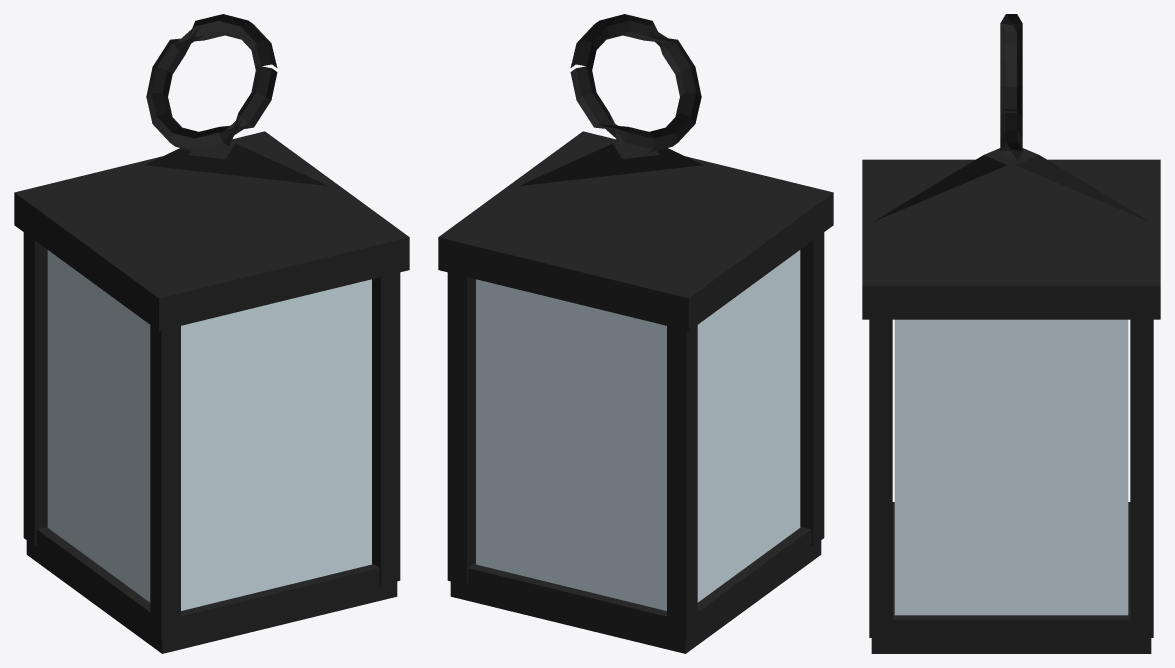
File: ljuslykta.glb
The picture shows the model from 3 angles, left to right: view 1: azimuth 30°, elevation 25°; view 2: azimuth 150°, elevation 25°; view 3: azimuth 270°, elevation 25°; orthographic projection. The views are drawn at different scales.
Parts seen in each view (by area): view 1: ljuslykta; view 2: ljuslykta; view 3: ljuslykta.
Part boxes in pixels (x1=…): ljuslykta: x1=14, y1=14, x2=409, y2=653; ljuslykta: x1=438, y1=14, x2=833, y2=653; ljuslykta: x1=862, y1=14, x2=1160, y2=653.
Bounding box in the file's own units: 0.32 × 0.6784 × 0.32.
